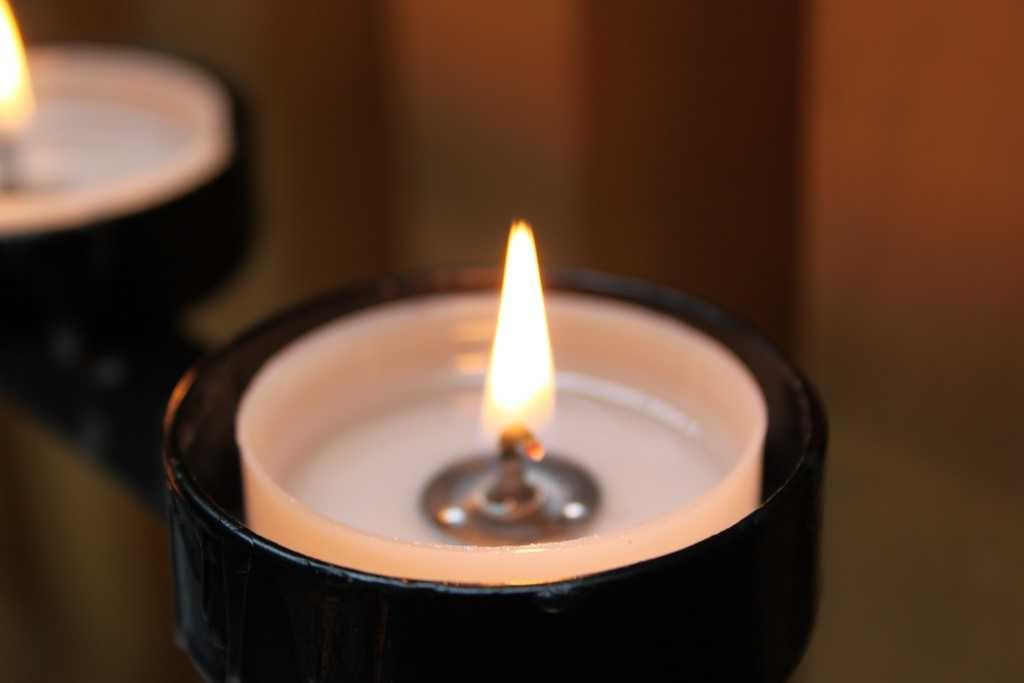fire: (494, 240, 552, 432), (0, 0, 30, 126)
